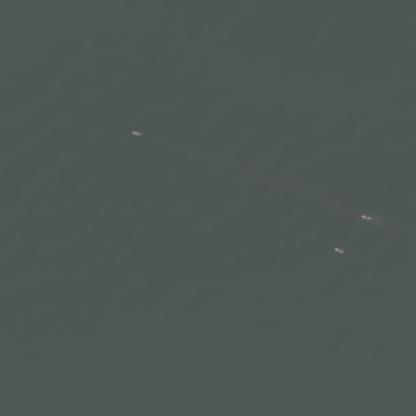ship: (326, 242, 350, 258), (356, 208, 376, 224), (128, 122, 143, 140)
